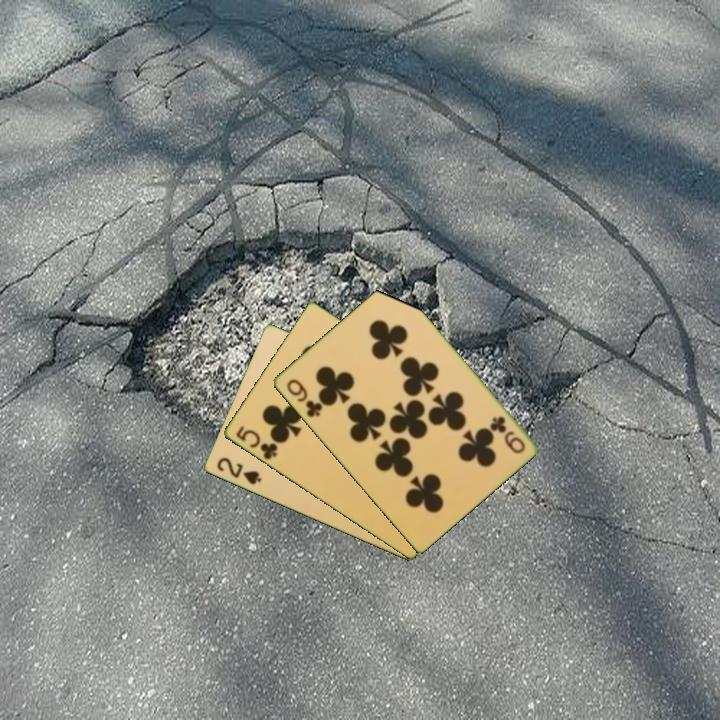2s: (213, 454, 264, 488)
5c: (232, 422, 280, 463)
9c: (282, 375, 325, 420), (486, 412, 528, 457)
